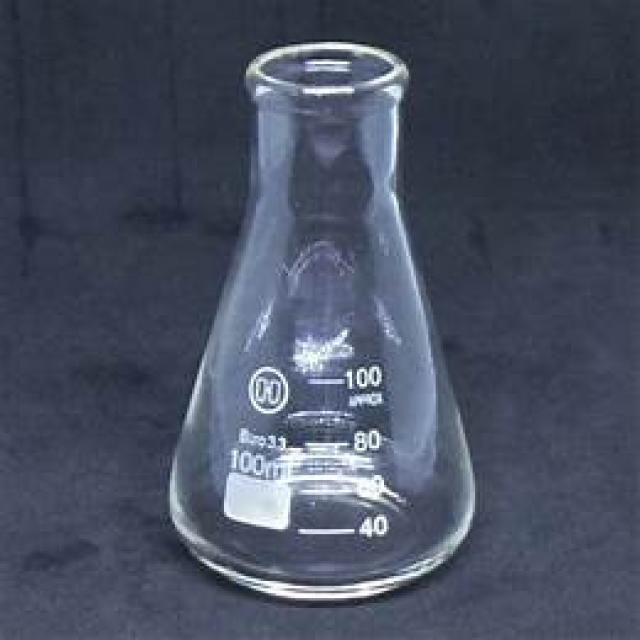Titrarion: (144, 41, 484, 604)
